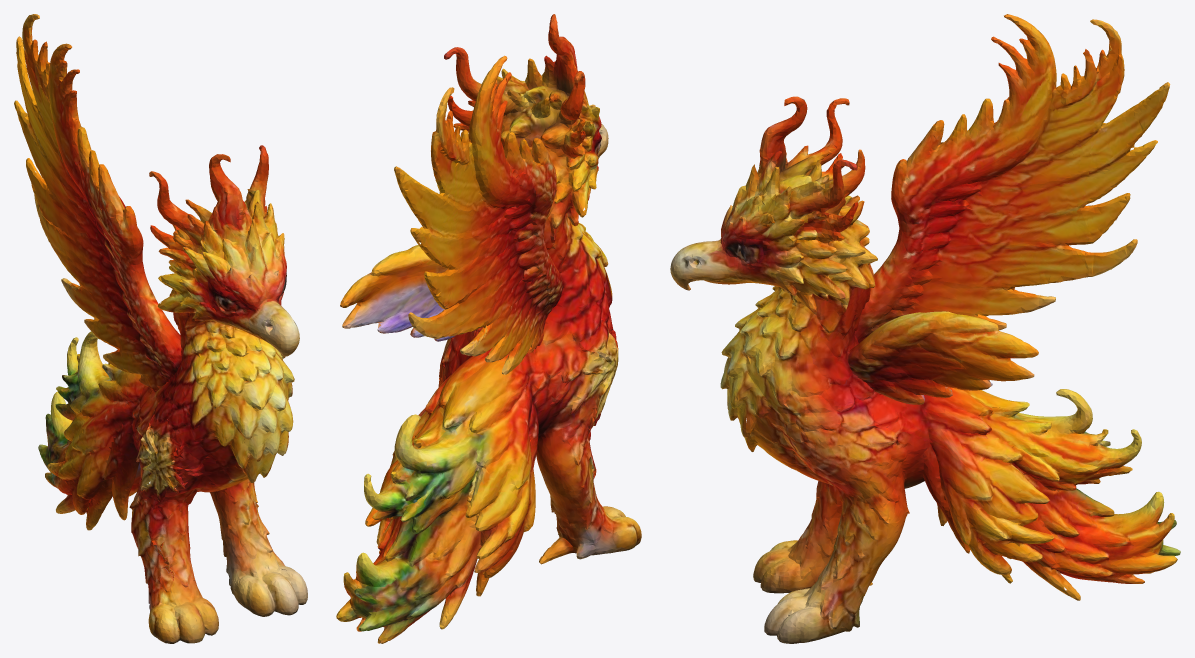
Rendered from incendyr.glb.
3 renders of one model, left to right at view 1: azimuth 30°, elevation 25°; view 2: azimuth 150°, elevation 25°; view 3: azimuth 270°, elevation 25°, orthographic. The views are drawn at different scales.
Parts seen in each view (by area): view 1: plush; view 2: plush; view 3: plush.
Part boxes in pixels (bbox=[...]): plush: bbox=[14, 14, 307, 643]; plush: bbox=[336, 14, 641, 643]; plush: bbox=[670, 14, 1180, 643].
Size of the model in its own units: 0.3101 by 0.9797 by 0.807.
1 material, 1 textured.
